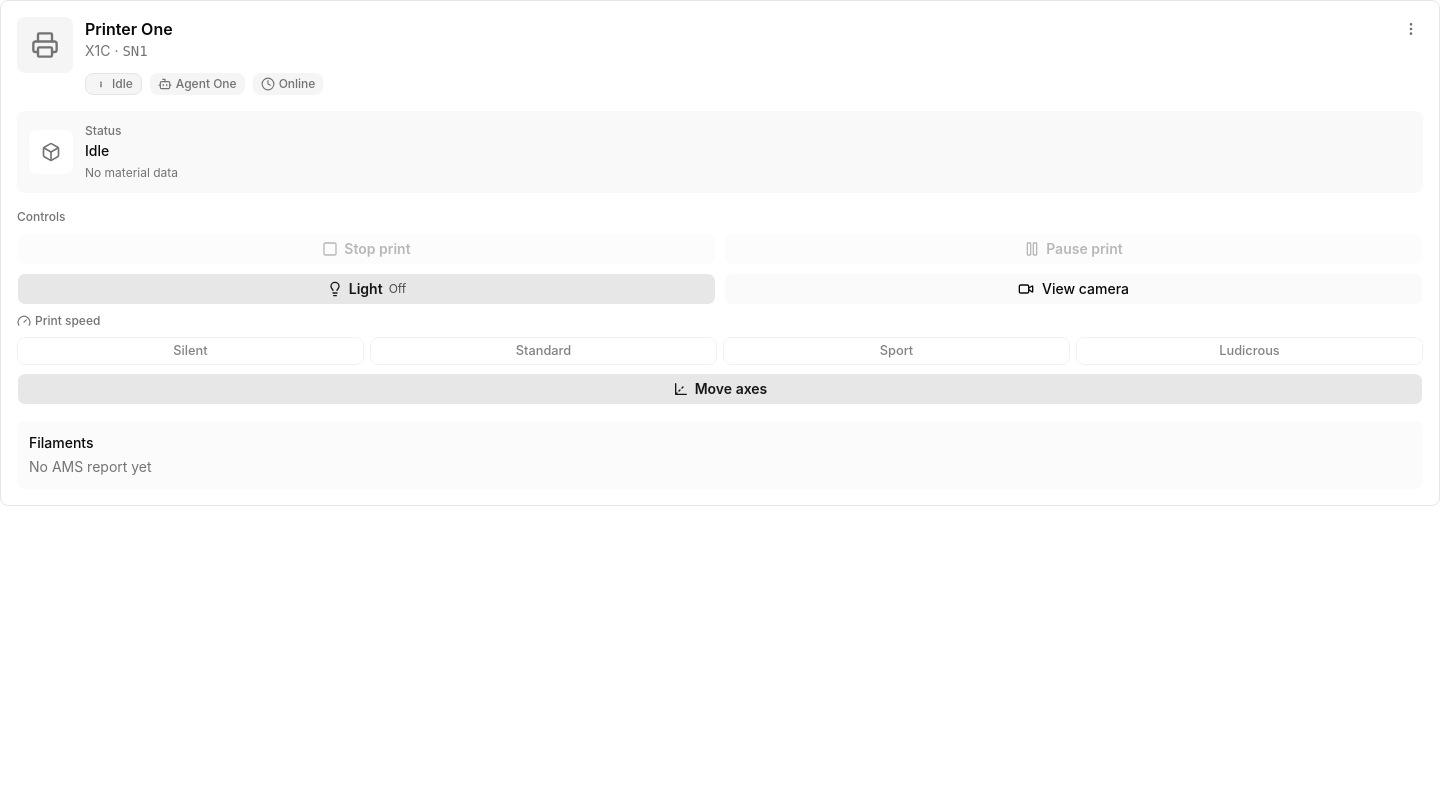
it: PrinterCard actions › closes the popover before opening an existing action flow
What coordinates should you click on to do the following:
click the button named "Actions for Printer One"
I would click on:
 (1411, 29)
Its box is [1399, 17, 1423, 41].
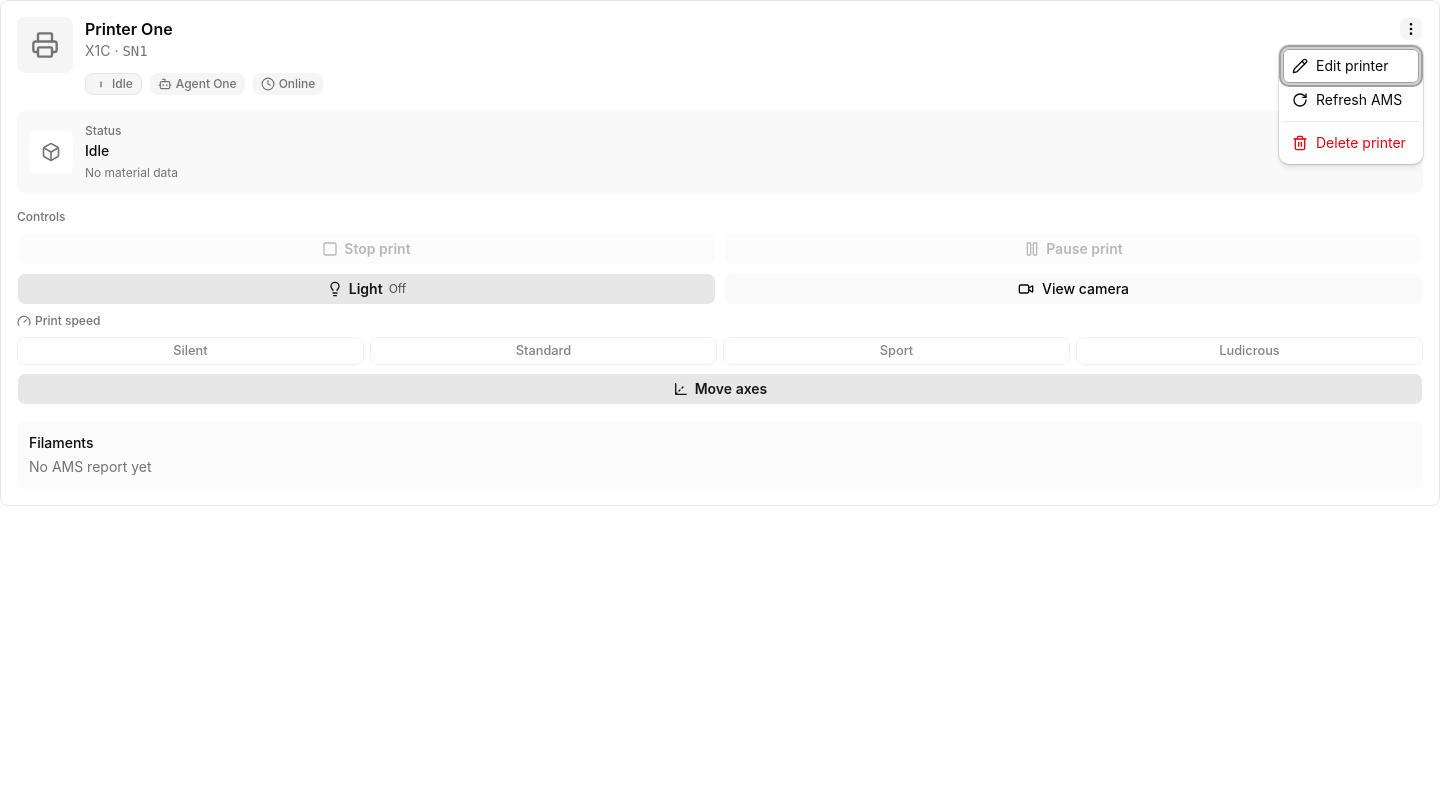
What coordinates should you click on to do the following:
click the button "Edit printer"
I would click on:
 (1351, 66)
Its box is [1283, 49, 1419, 83].
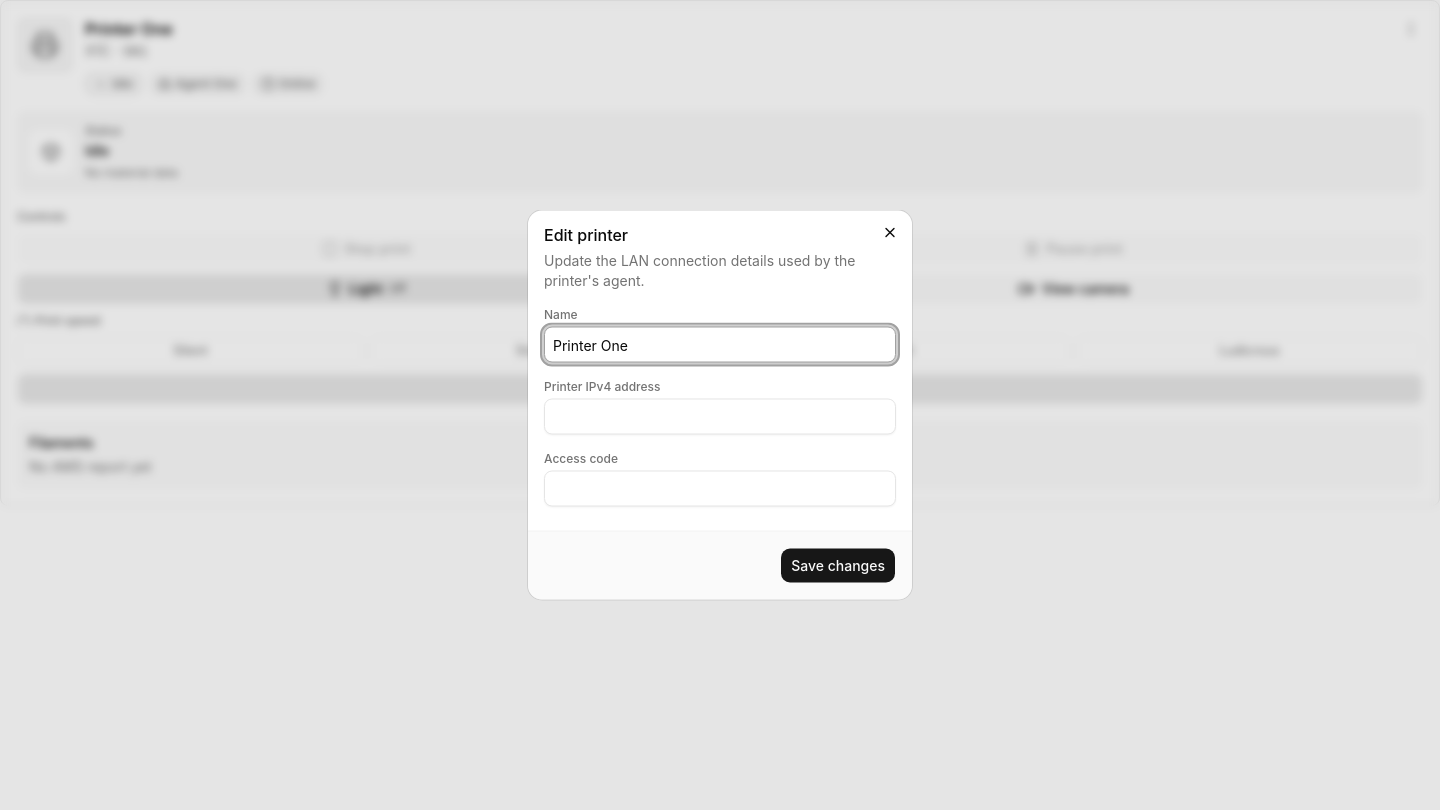
Expected: the button "Refresh AMS" is gone
Expected: the dialog "Edit printer" is shown, [528, 210, 912, 600]
